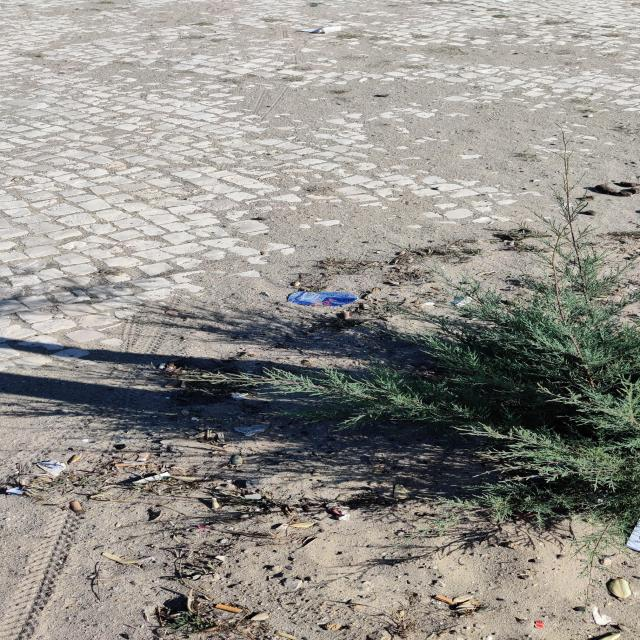Cigarette: (215, 603, 244, 613), (433, 595, 453, 605), (70, 501, 84, 513), (115, 462, 148, 467), (230, 392, 249, 399), (136, 452, 150, 461), (415, 302, 430, 308), (363, 293, 373, 300), (166, 363, 174, 371), (235, 396, 248, 400), (158, 363, 166, 369), (344, 312, 349, 319), (399, 251, 406, 255)
Drink can: (287, 292, 358, 307)
Normal paper: (299, 25, 342, 33)
Other plastic: (7, 487, 22, 495)
Unlabeled litter: (592, 601, 618, 624), (131, 472, 172, 483), (39, 460, 66, 476), (327, 502, 349, 520), (405, 49, 414, 51)
